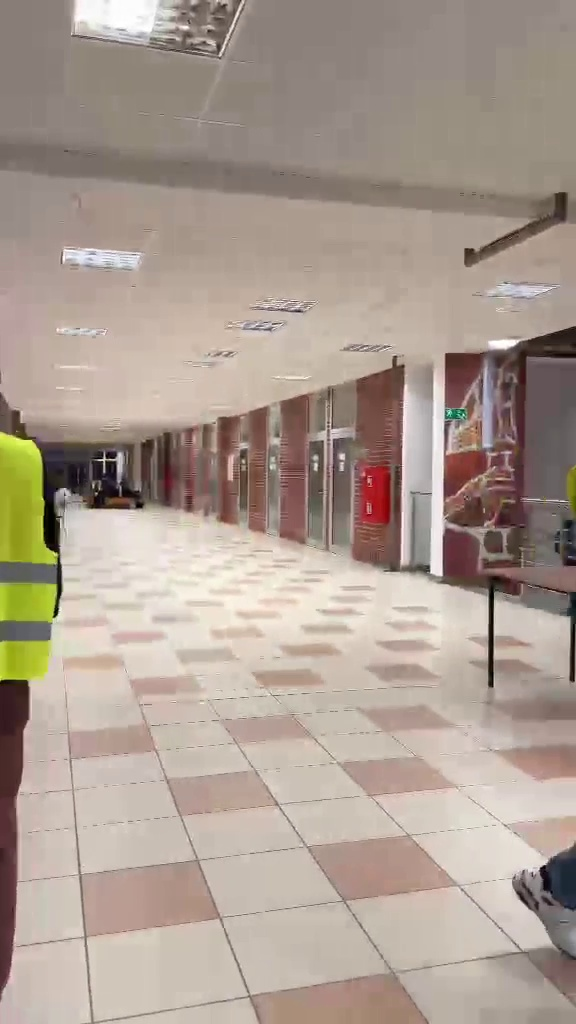vest: (0, 395, 63, 1003)
